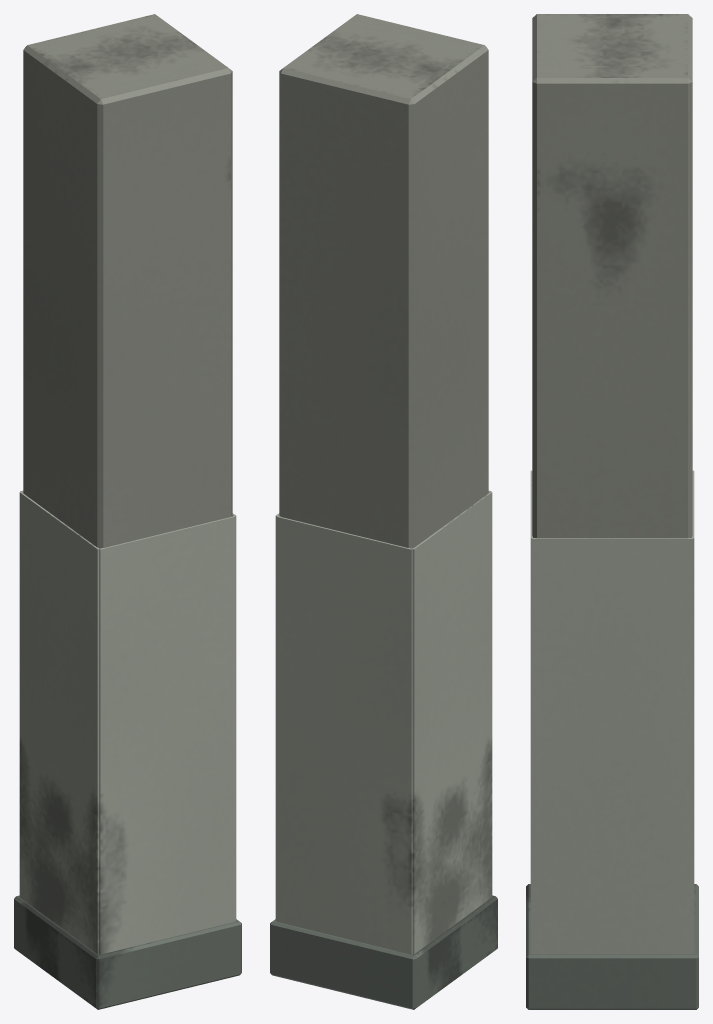
Rendered from column_3m2.glb.
3 views of the same model, side by side, from view 1: azimuth 30°, elevation 25°; view 2: azimuth 150°, elevation 25°; view 3: azimuth 270°, elevation 25° (orthographic). The views are drawn at different scales.
Parts seen in each view (by area): view 1: column_3m2; view 2: column_3m2; view 3: column_3m2.
Part boxes in pixels (box(x1,y1,x2,y2)): column_3m2: box(14, 14, 241, 1009); column_3m2: box(270, 14, 497, 1009); column_3m2: box(526, 14, 698, 1009).
Size of what is drawn, in the model's own units: 0.54 by 3.2 by 0.54.
Materials: 1 (1 with a texture image).
